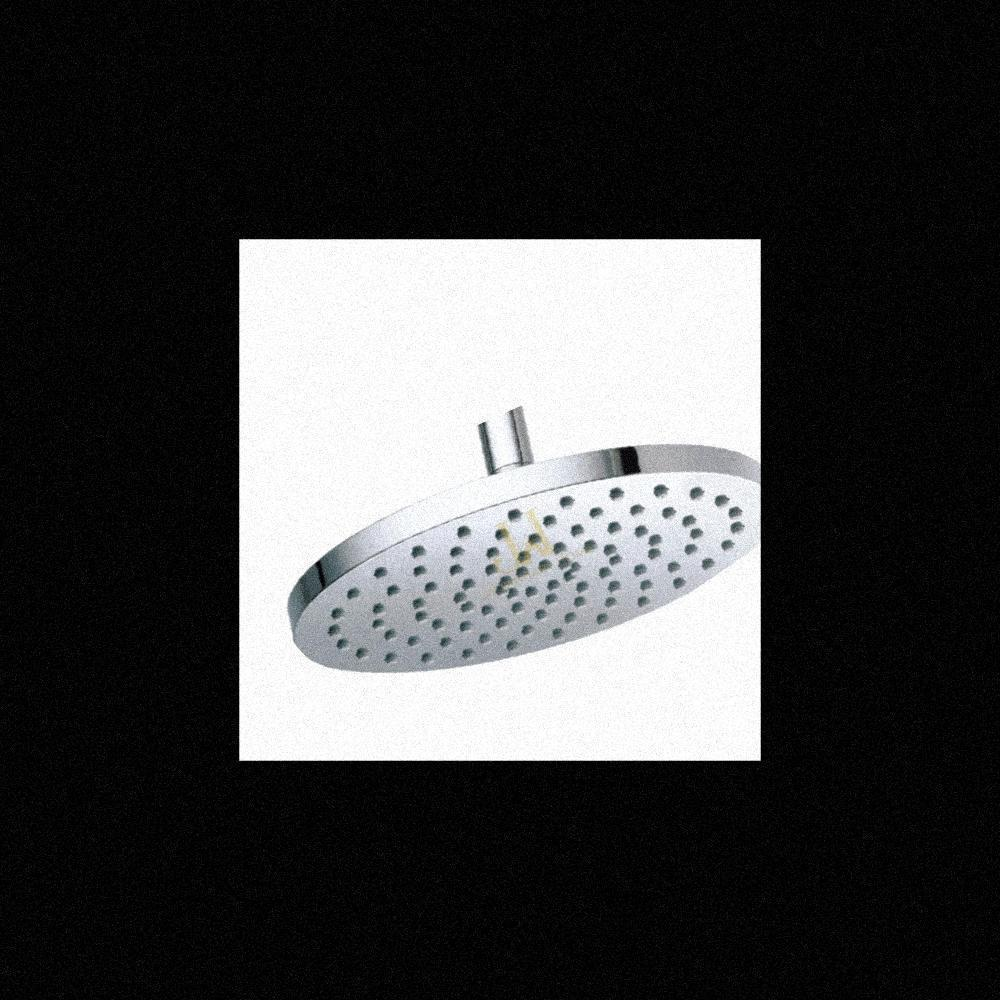Ducha: (303, 381, 760, 684)
